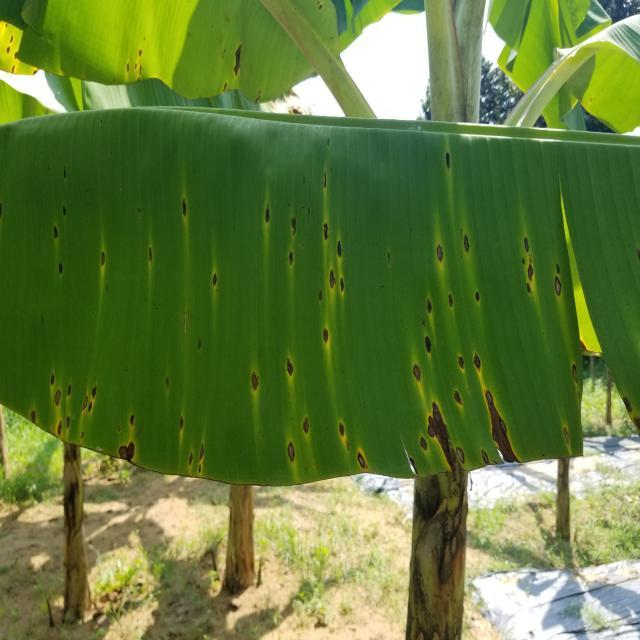Early_rust: (0, 43, 640, 559), (0, 0, 65, 108)
